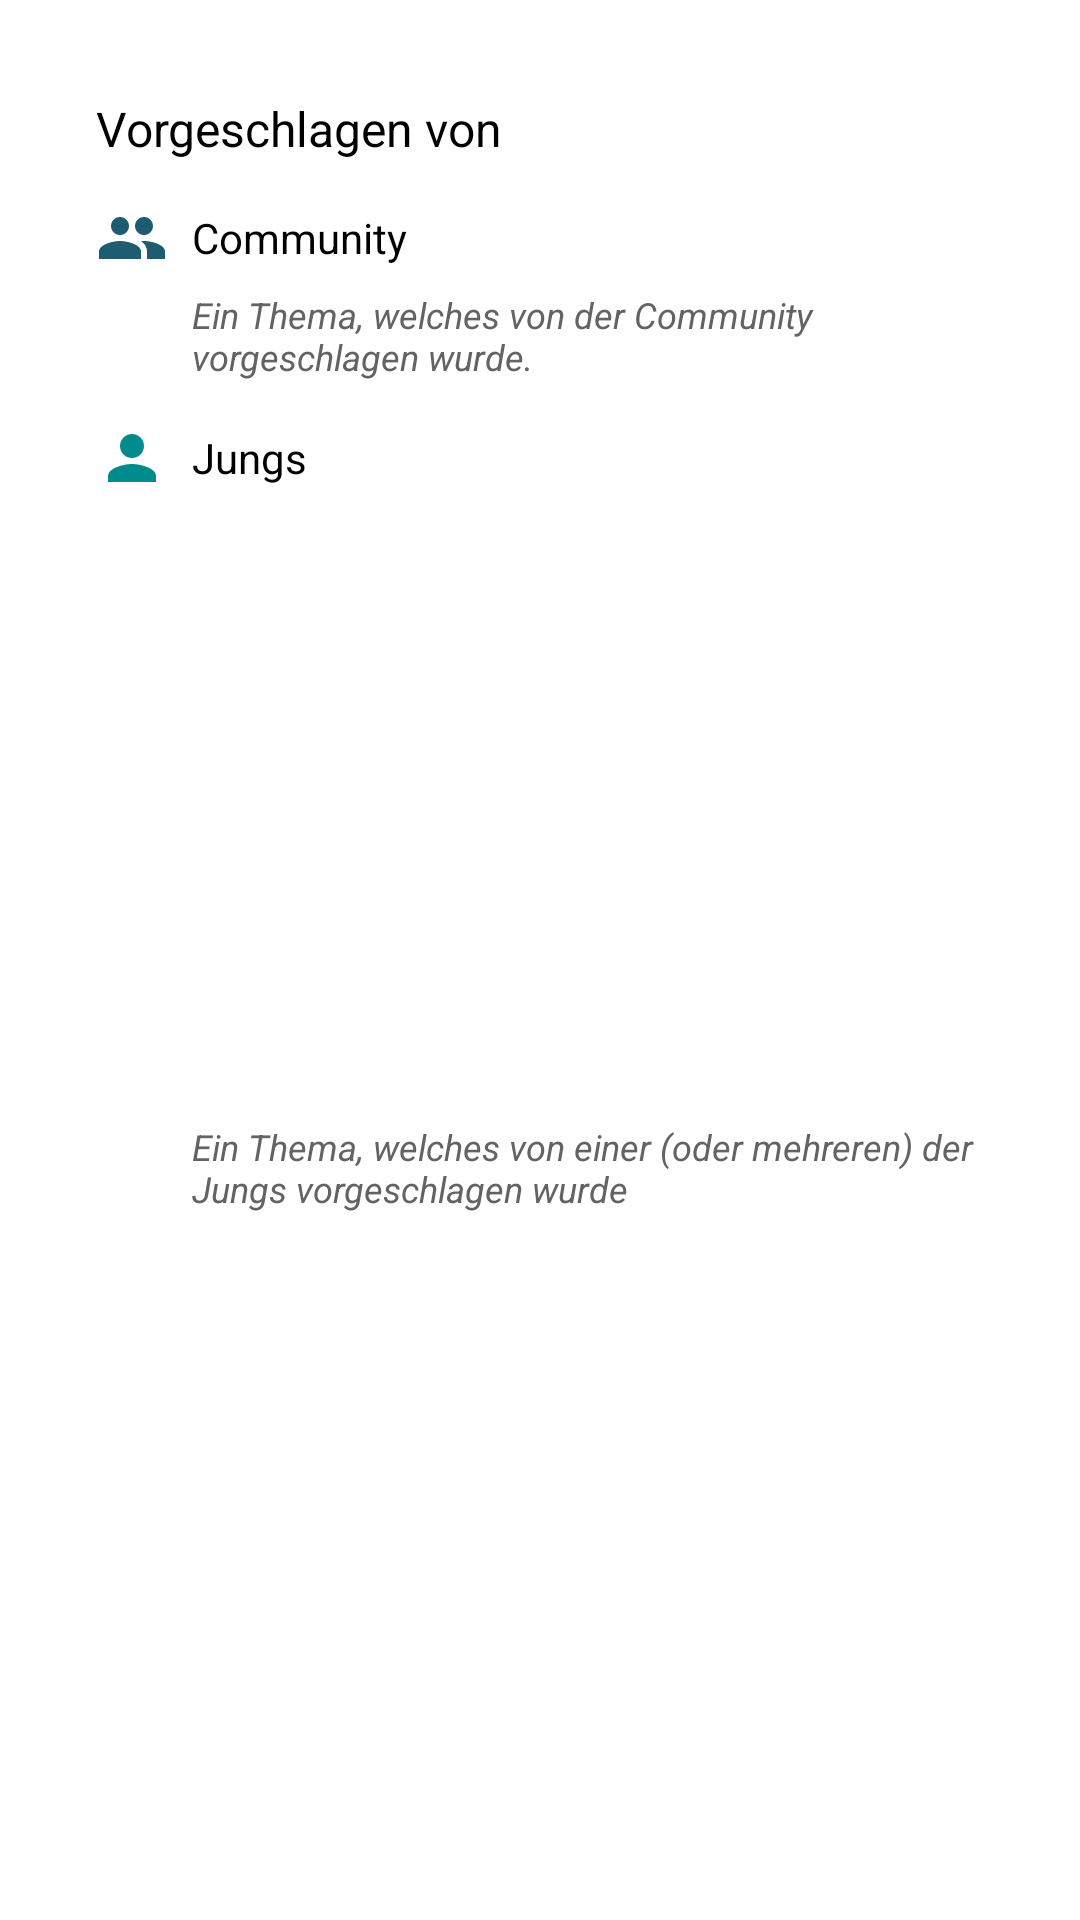

Where to tap for icons on this 1080 × 1920 app screen, as point (x, y):
Ein Symbol mit 2 Menschen: point (132, 238)
Ein Symbol mit einer Person: point (132, 458)
